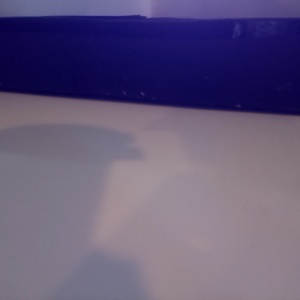zone: (1, 15, 300, 115)
